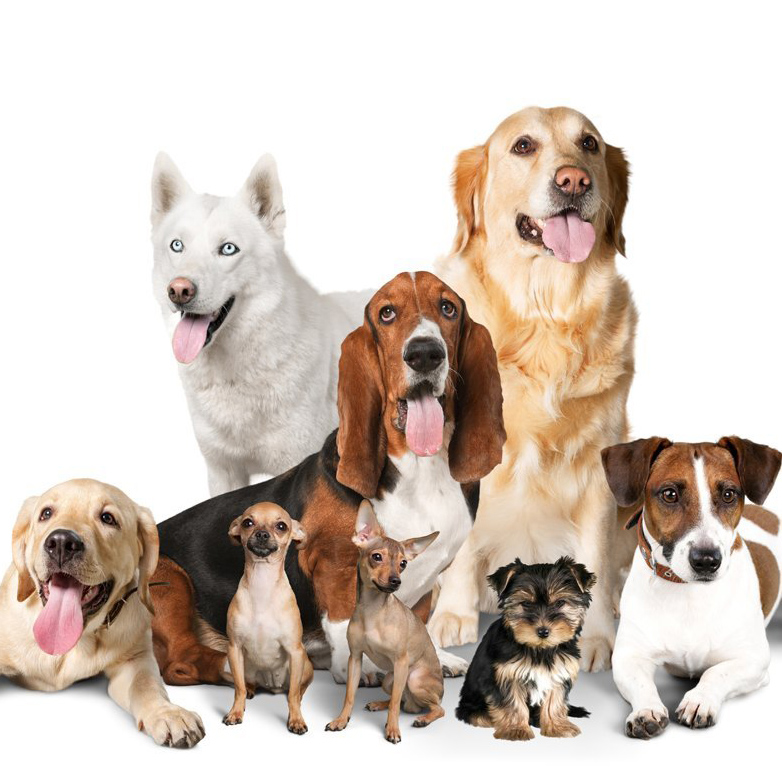dog: (127, 271, 528, 717), (435, 88, 651, 573), (127, 146, 386, 498), (598, 400, 782, 763), (9, 478, 204, 751), (452, 534, 602, 754), (322, 498, 449, 748), (217, 491, 318, 725)
